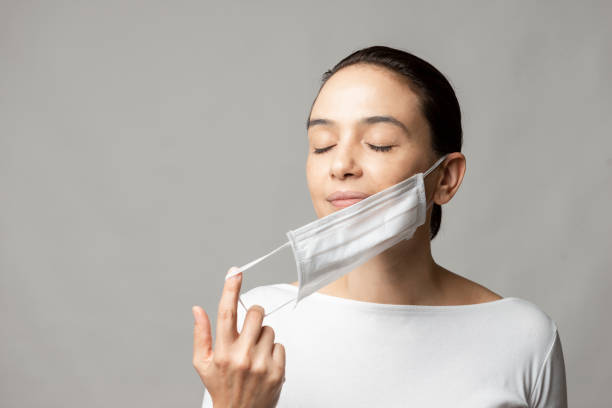without_mask: (307, 83, 437, 226)
